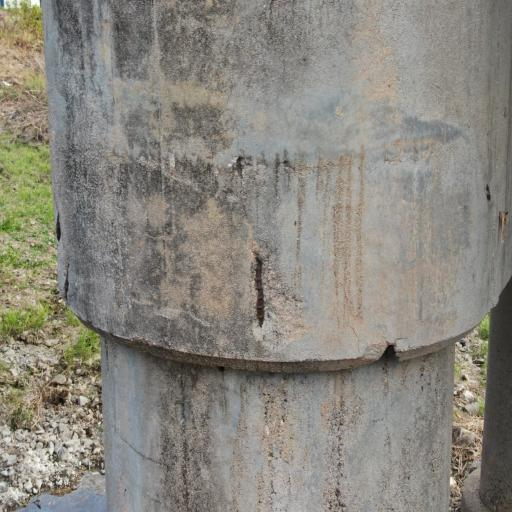exposed_rebar: (255, 258, 264, 327), (64, 265, 69, 301), (55, 213, 61, 242), (237, 156, 242, 178)
